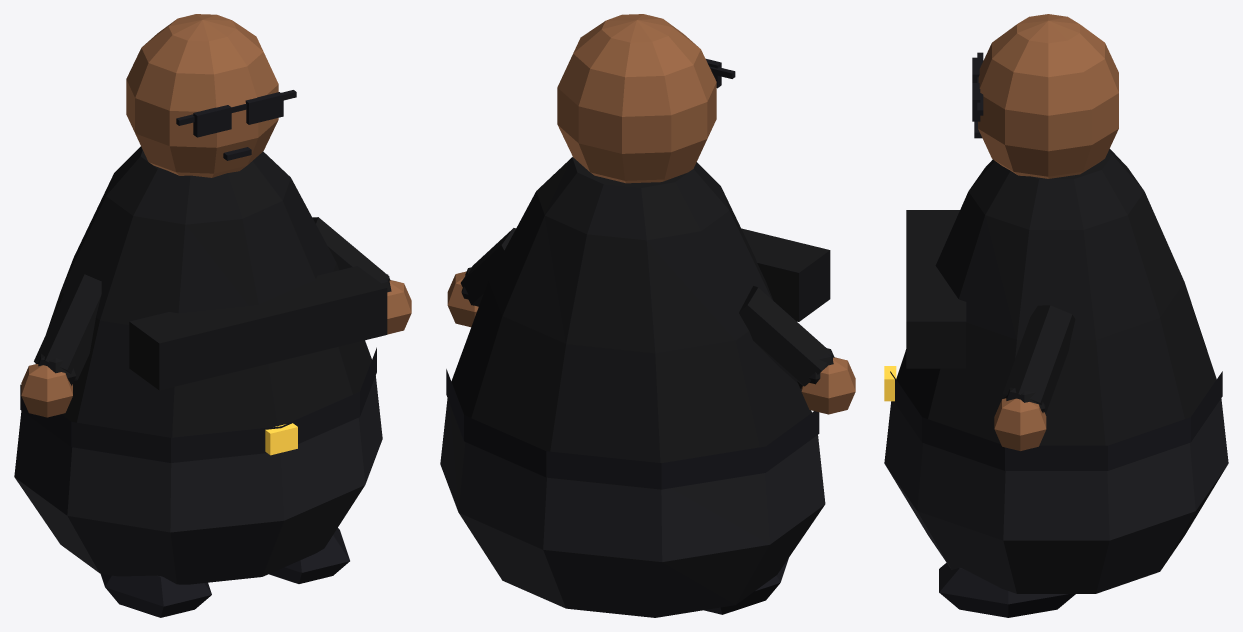
File: npc_patovica.glb
The picture shows the model from 3 angles, left to right: view 1: azimuth 30°, elevation 25°; view 2: azimuth 150°, elevation 25°; view 3: azimuth 270°, elevation 25°; orthographic projection. The views are drawn at different scales.
Parts seen in each view (by area): view 1: body_tee_black (×2), body_pants_black, head_skin_cacao, body_black, arms_tee_black, legs_black, arms_skin_cacao, face_black, body_gold; view 2: body_tee_black (×2), body_pants_black, head_skin_cacao, body_black, arms_tee_black, arms_skin_cacao, legs_black; view 3: body_tee_black (×2), body_pants_black, head_skin_cacao, body_black, arms_tee_black, legs_black, arms_skin_cacao, face_black.
Part boxes in pixels (<box>): body_tee_black (×2): <box>46,146,387,437</box>; body_pants_black: <box>14,376,382,584</box>; head_skin_cacao: <box>126,14,278,177</box>; body_black: <box>20,347,376,462</box>; arms_tee_black: <box>34,217,391,385</box>; legs_black: <box>100,528,349,617</box>; arms_skin_cacao: <box>21,280,411,417</box>; face_black: <box>176,90,296,160</box>; body_gold: <box>265,423,297,455</box>; body_tee_black (×2): <box>451,157,830,462</box>; body_pants_black: <box>440,398,825,617</box>; head_skin_cacao: <box>557,14,716,183</box>; body_black: <box>446,369,819,489</box>; arms_tee_black: <box>460,228,834,388</box>; arms_skin_cacao: <box>447,271,855,414</box>; legs_black: <box>704,558,788,614</box>; body_tee_black (×2): <box>896,149,1216,445</box>; body_pants_black: <box>884,398,1228,593</box>; head_skin_cacao: <box>978,14,1118,178</box>; body_black: <box>890,371,1222,470</box>; arms_tee_black: <box>1002,305,1075,412</box>; legs_black: <box>939,563,1075,617</box>; arms_skin_cacao: <box>994,398,1046,450</box>; face_black: <box>972,52,983,138</box>.
Size of the model in its own units: 1.13 by 1.53 by 0.86.
